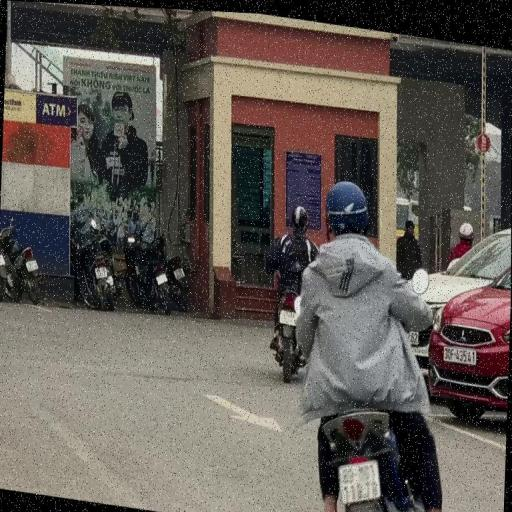bike: (286, 166, 468, 512), (262, 198, 322, 387)
numberplate: (336, 447, 384, 507), (278, 304, 298, 324), (25, 257, 39, 274), (94, 264, 108, 280), (156, 269, 169, 286), (172, 264, 186, 279)
with helmet: (325, 173, 370, 235), (290, 199, 310, 226)
